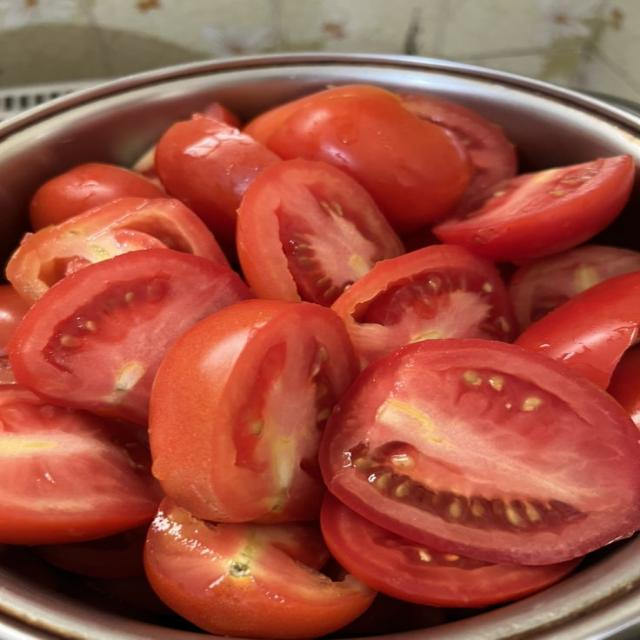sliced_tomato: (320, 339, 639, 564), (150, 300, 357, 521), (8, 249, 250, 423), (145, 500, 375, 638), (321, 494, 580, 607), (267, 91, 471, 233), (0, 385, 159, 544), (238, 159, 402, 305), (7, 198, 227, 302), (332, 245, 514, 364), (434, 156, 634, 262), (155, 115, 279, 247), (516, 272, 639, 388), (400, 94, 517, 212), (508, 245, 639, 330), (243, 85, 399, 146), (30, 164, 166, 230), (36, 523, 148, 578), (0, 285, 29, 384), (607, 347, 639, 426), (0, 285, 29, 356), (201, 102, 240, 128), (133, 145, 159, 183)
